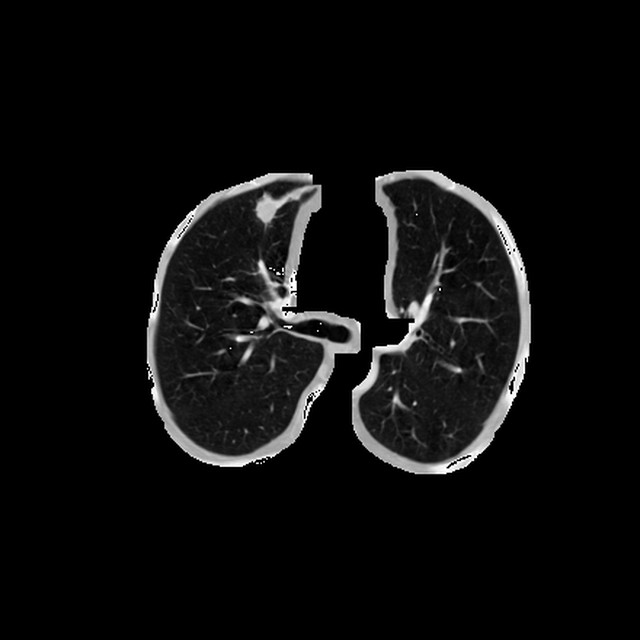PN: (255, 196, 278, 220)
